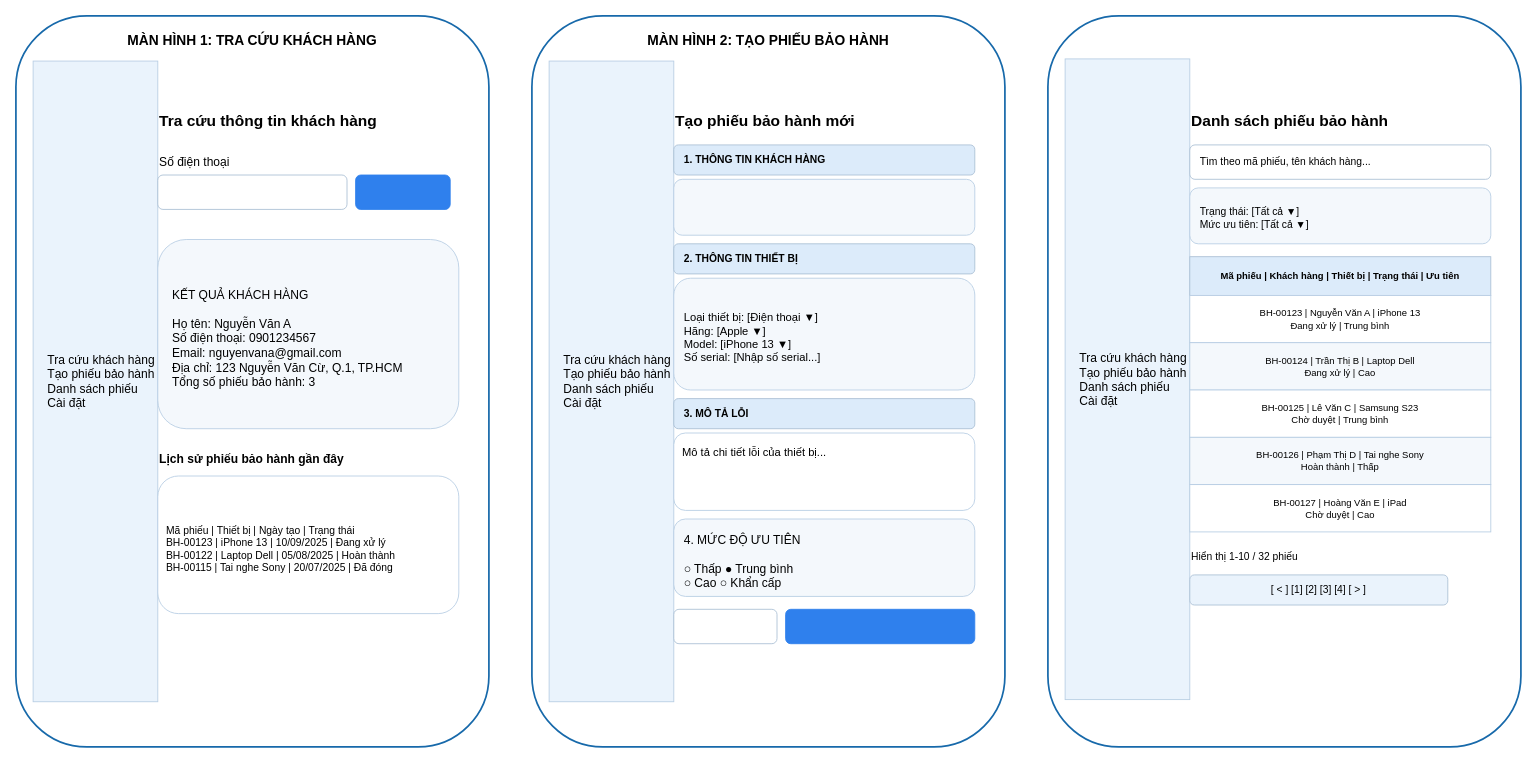
This 1536x762 diagram has some shape labels left out. Each missing label, with the box of its shape:
Hủy: (673, 608, 777, 644)
MÀN HÌNH 3: DANH SÁCH PHIẾU: (1047, 15, 1521, 747)
Nhập số điện thoại...: (157, 174, 347, 209)
Số điện thoại: 0901234567 Họ tên: Nguyễn Văn A: (673, 178, 975, 235)
Tìm kiếm: (355, 174, 450, 209)
TẠO PHIẾU: (785, 608, 975, 644)
